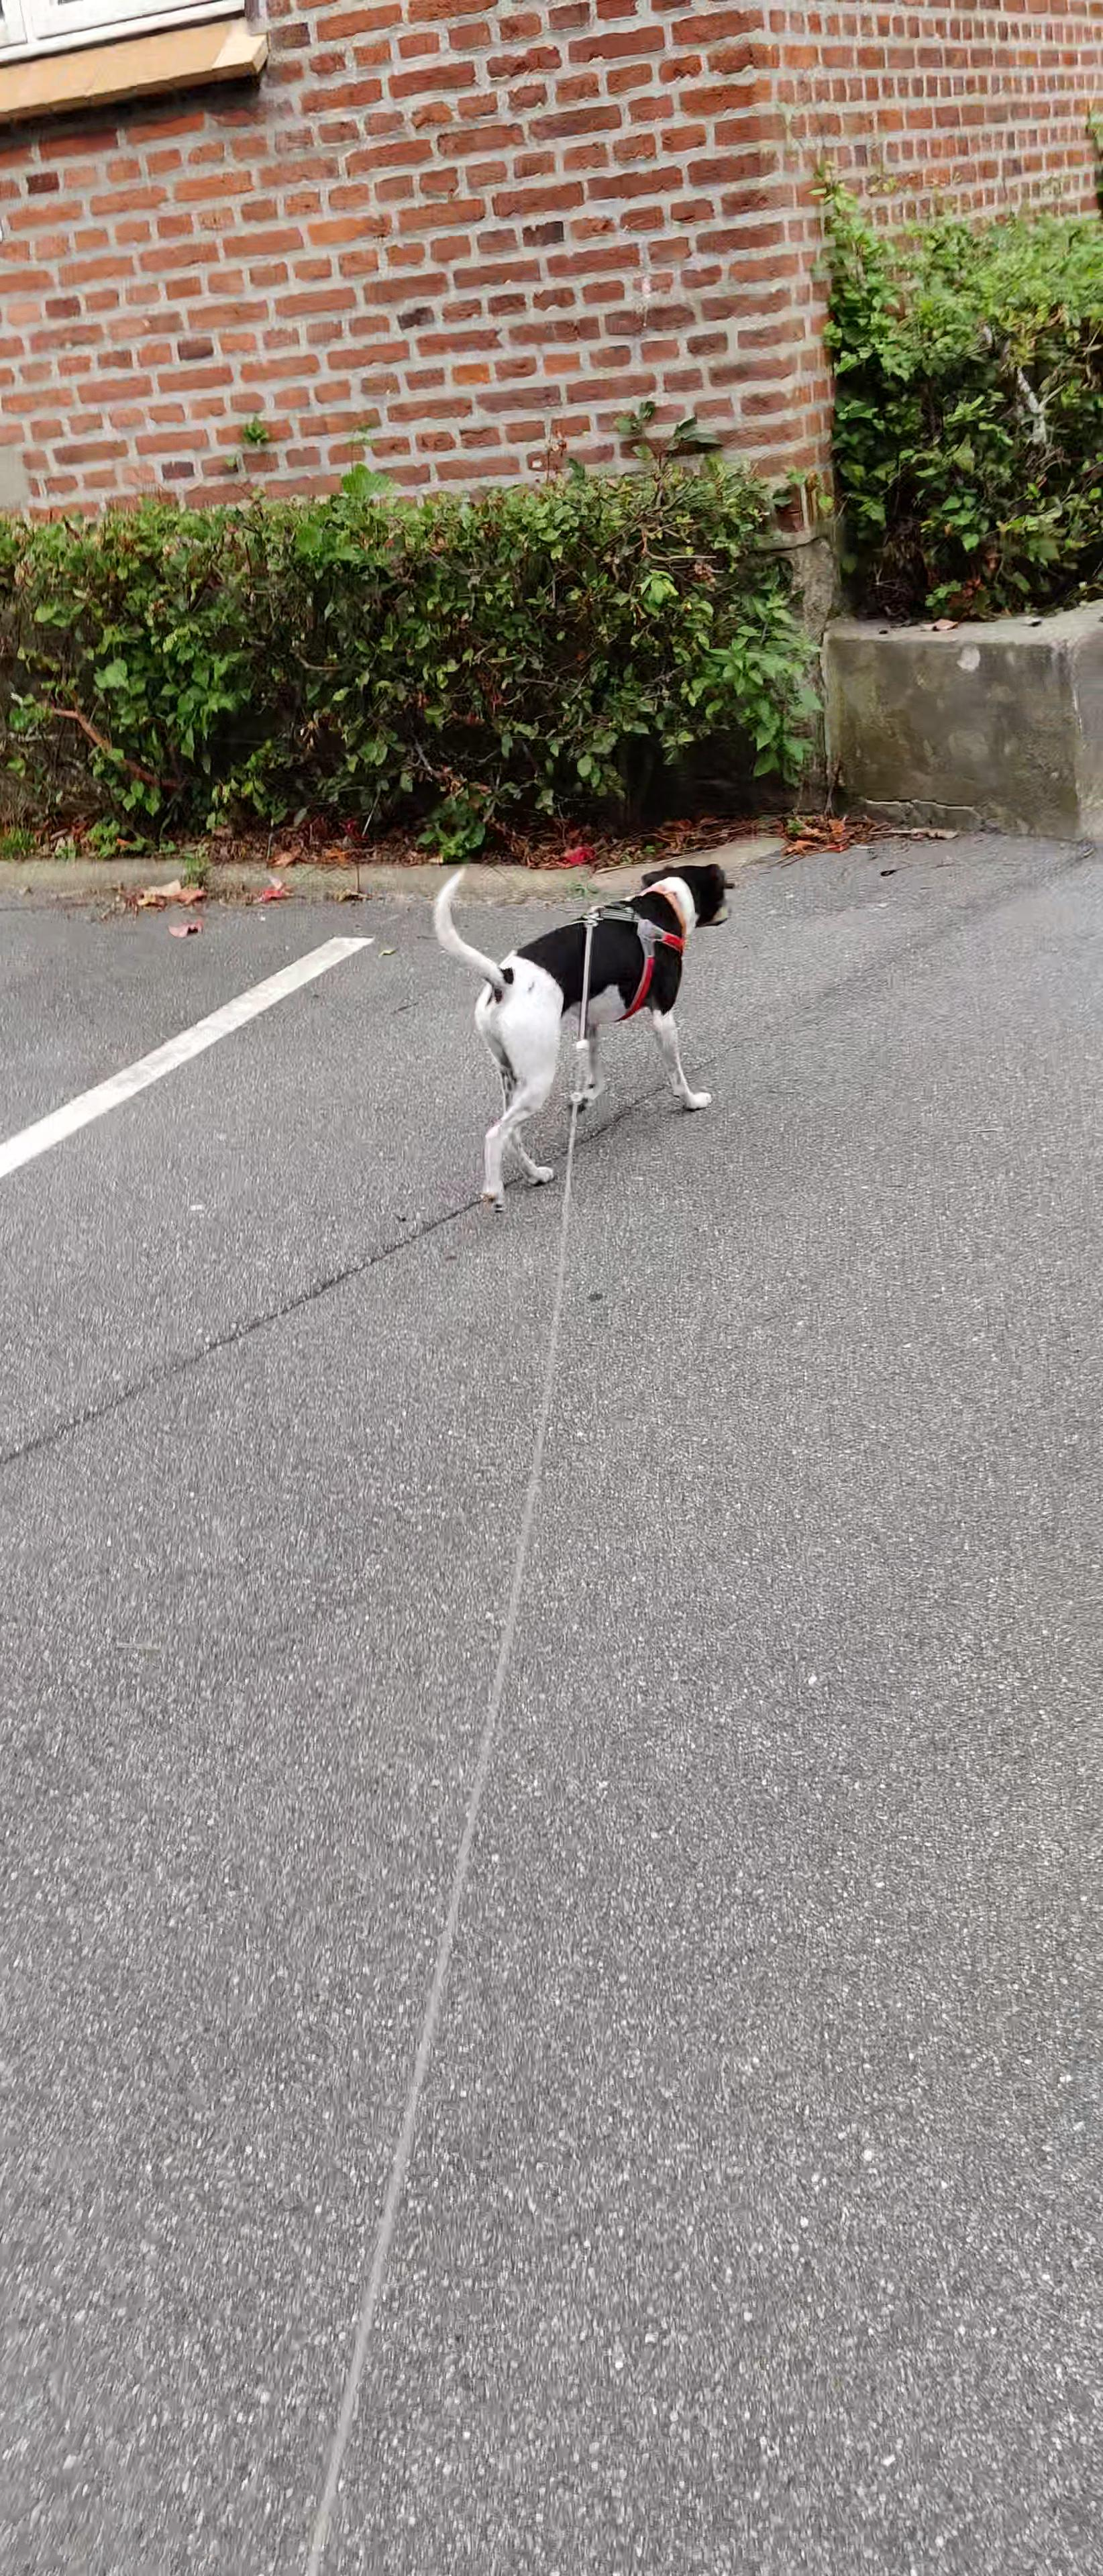Dog: (414, 844, 764, 1219)
